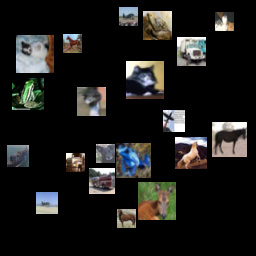airplane: (36, 192, 58, 214), (163, 110, 185, 132), (119, 7, 138, 26)
bird: (77, 87, 106, 116)
cat: (126, 61, 164, 99), (215, 12, 234, 31)
deer: (138, 182, 176, 220)
dog: (16, 35, 54, 73), (96, 144, 115, 163)
frog: (116, 143, 151, 178), (12, 78, 44, 110), (143, 11, 172, 40)
ship: (7, 145, 29, 167)
